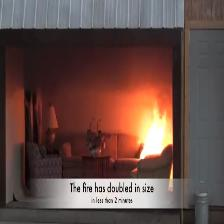fire: (140, 101, 167, 160)
